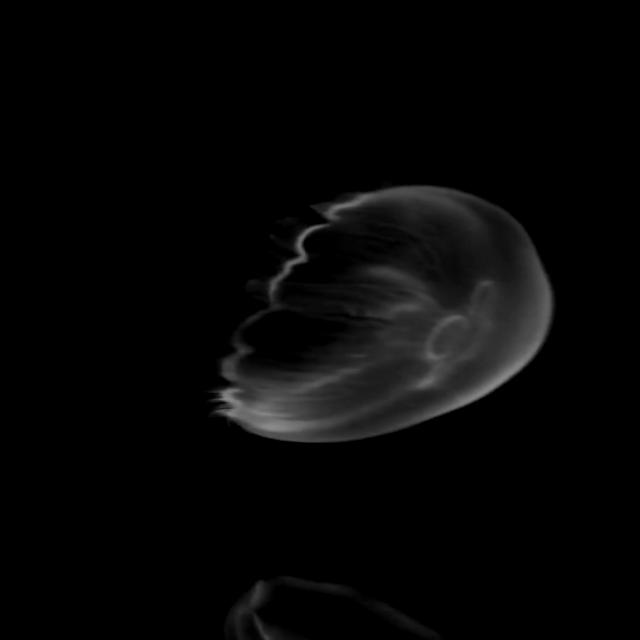Moon-jellyfish: (151, 180, 548, 444)
